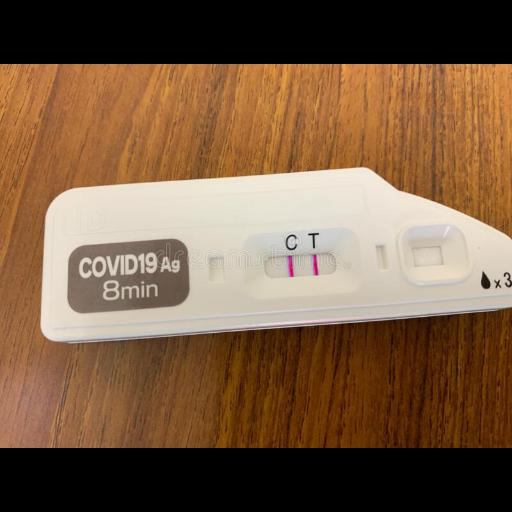Pos: (43, 160, 512, 342)
